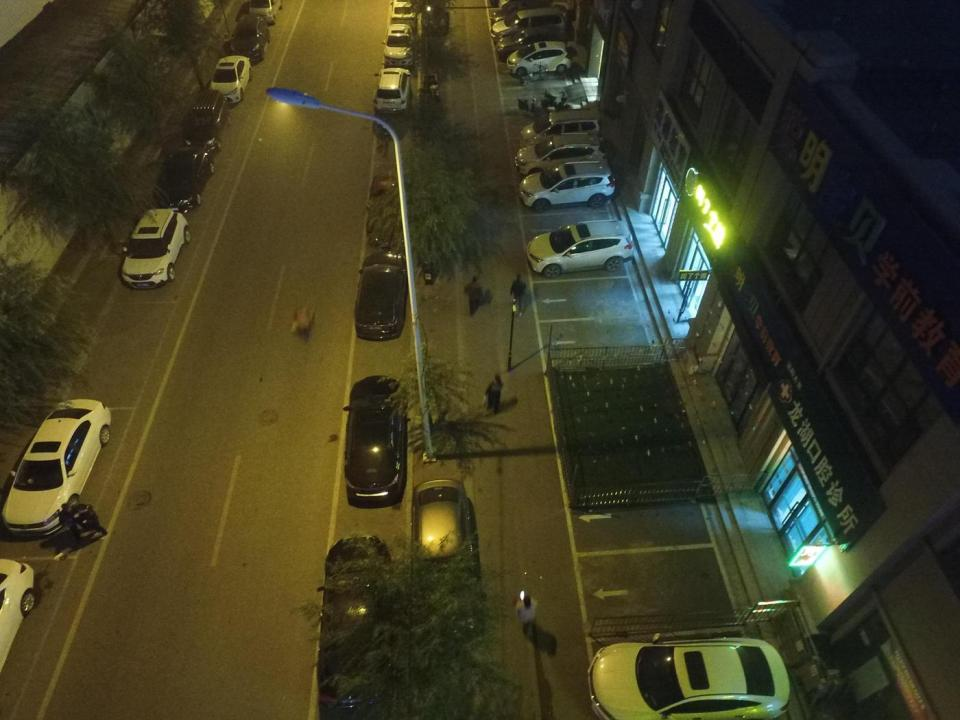car: (588, 631, 788, 718), (2, 399, 112, 536), (316, 535, 396, 709), (411, 481, 478, 636), (343, 376, 404, 501), (526, 220, 634, 278), (121, 208, 190, 290), (518, 161, 614, 212), (354, 252, 406, 341), (154, 146, 214, 212), (515, 132, 607, 175), (366, 174, 407, 247), (506, 41, 570, 76), (208, 55, 252, 103), (497, 27, 562, 59), (230, 14, 270, 59), (491, 3, 555, 28), (382, 24, 413, 65), (421, 1, 446, 34), (390, 0, 416, 30)
van: (520, 110, 600, 148), (185, 89, 231, 150), (490, 7, 564, 44), (374, 67, 410, 113), (499, 0, 552, 20), (249, 0, 282, 24)
